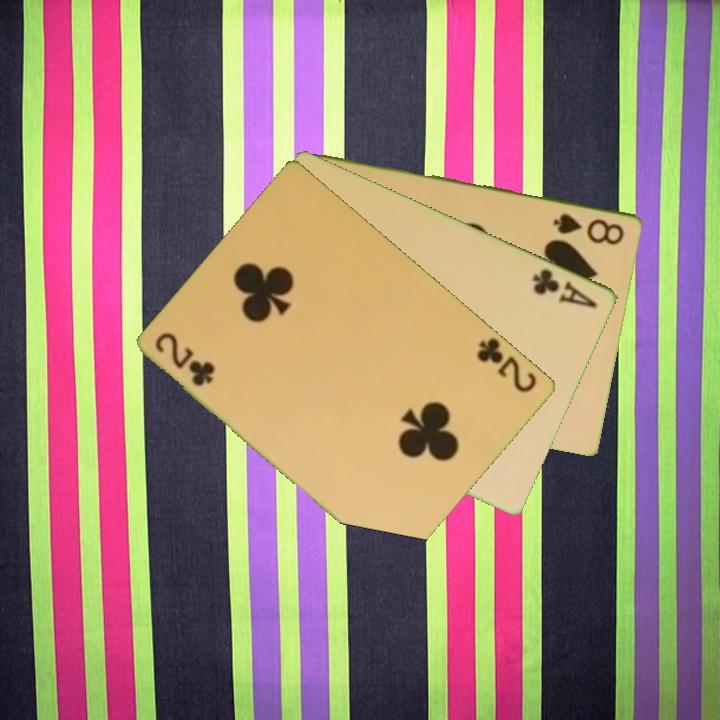2c: (474, 334, 541, 396), (152, 329, 219, 390)
8s: (550, 209, 628, 248)
Ac: (529, 264, 601, 311)
